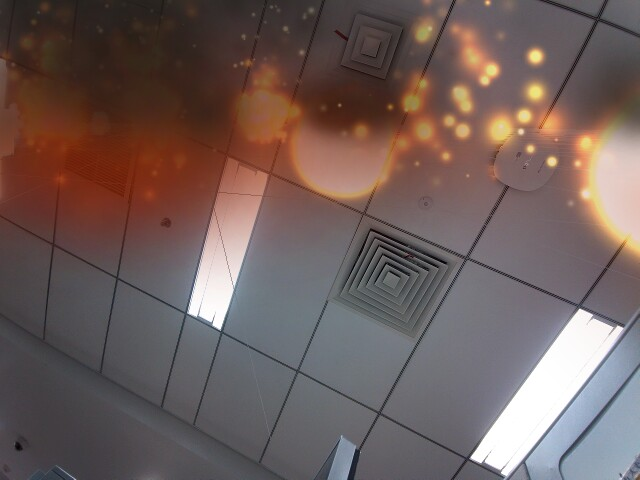fire: (291, 95, 396, 205), (586, 82, 640, 257)
